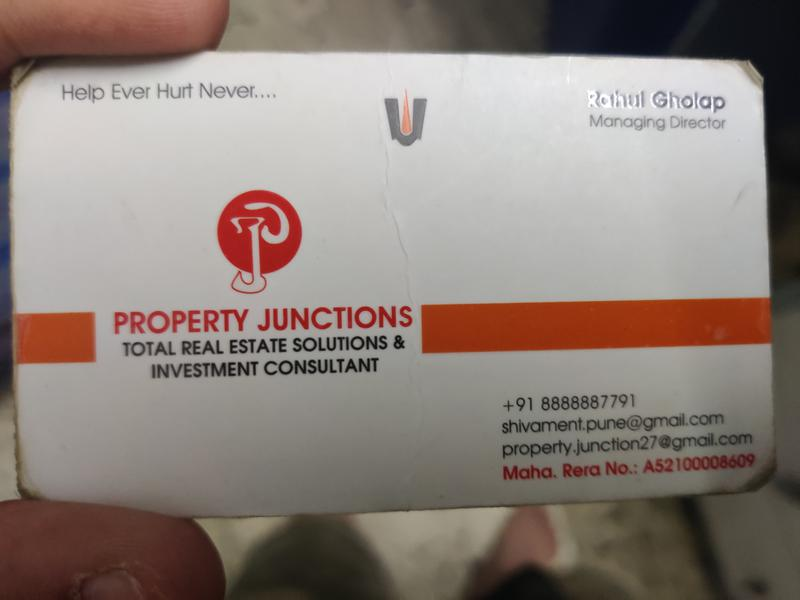card: (8, 48, 779, 520)
